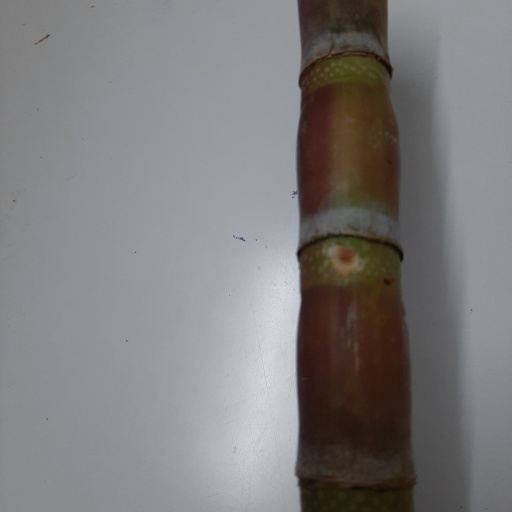Damage_Bud: (325, 242, 362, 273)
